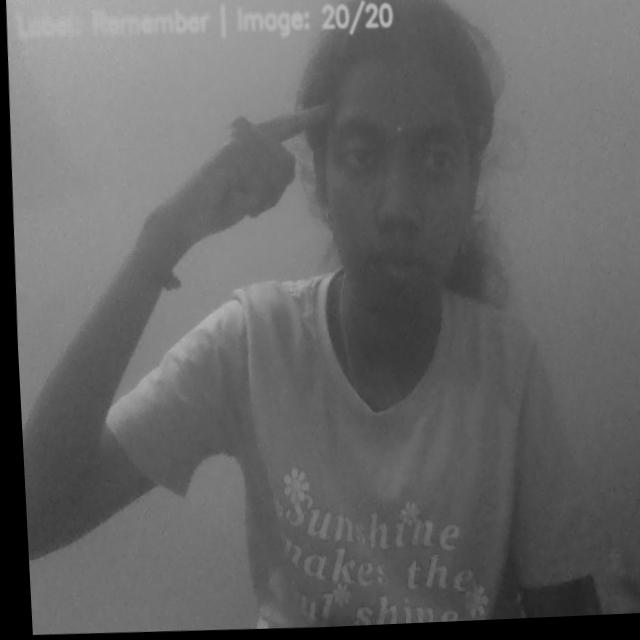Remember: (141, 102, 341, 266)
